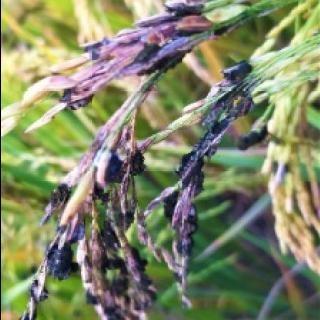Gosong-Palsu: (21, 1, 211, 107), (76, 220, 154, 319), (94, 151, 121, 187), (176, 16, 210, 30)
